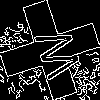W: (25, 25, 83, 85)
